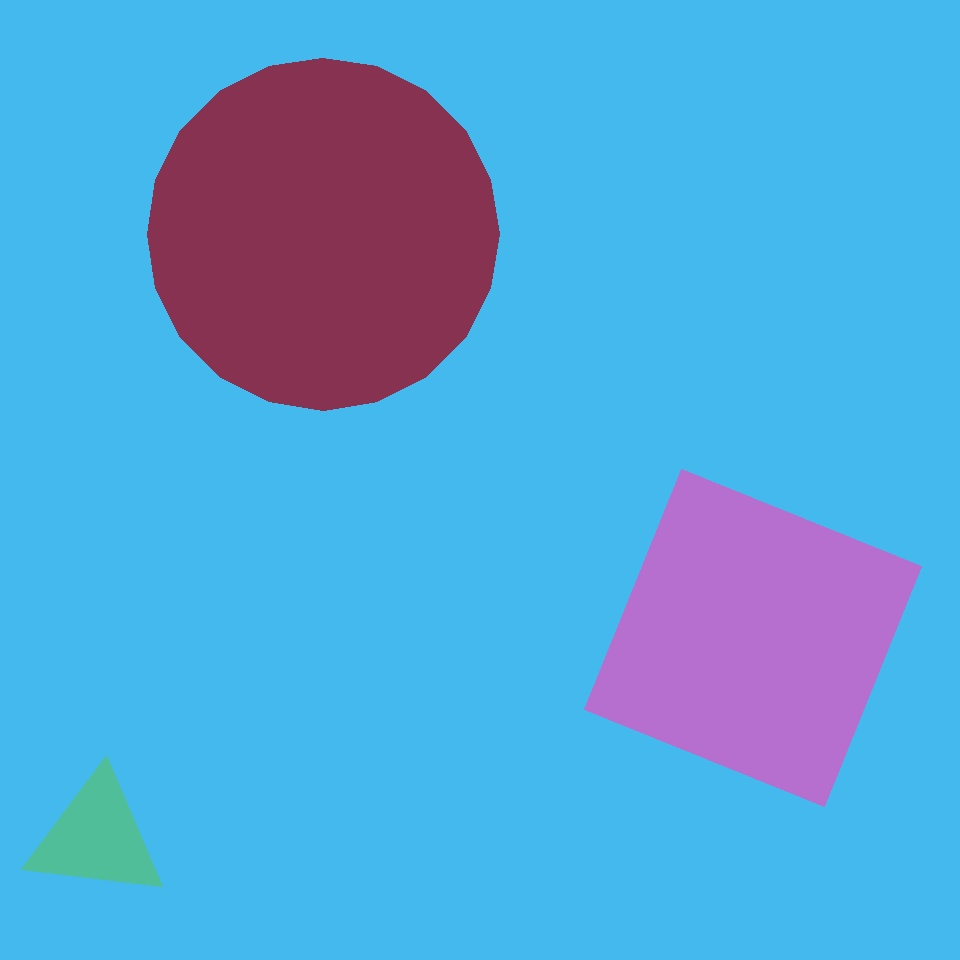circle: (276, 36, 508, 256), (80, 432, 266, 601), (26, 772, 168, 902)
square: (584, 469, 922, 806), (525, 203, 861, 539)
triangle: (162, 444, 537, 819), (548, 180, 907, 539), (147, 58, 499, 410), (635, 120, 859, 345)
